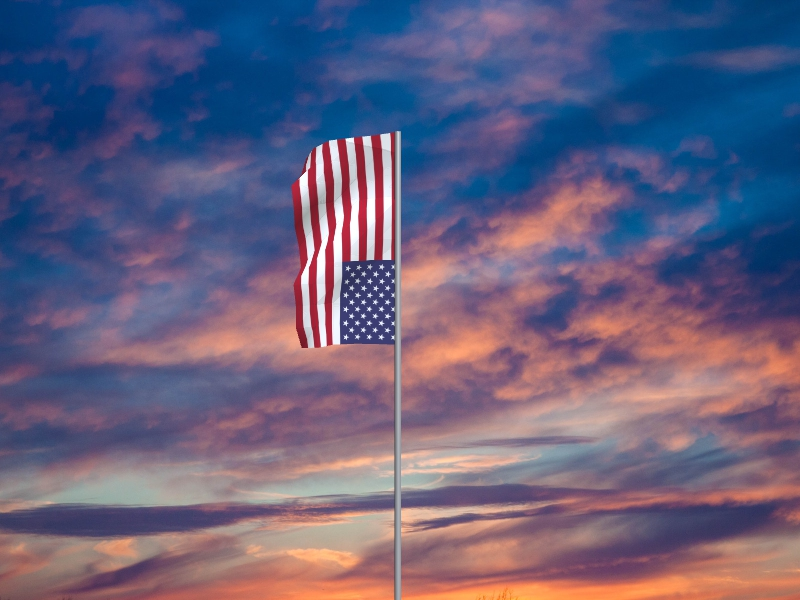us: (291, 132, 395, 350)
